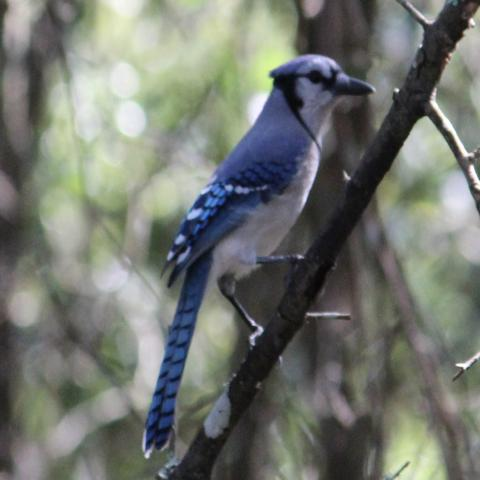bird: (140, 50, 376, 458)
